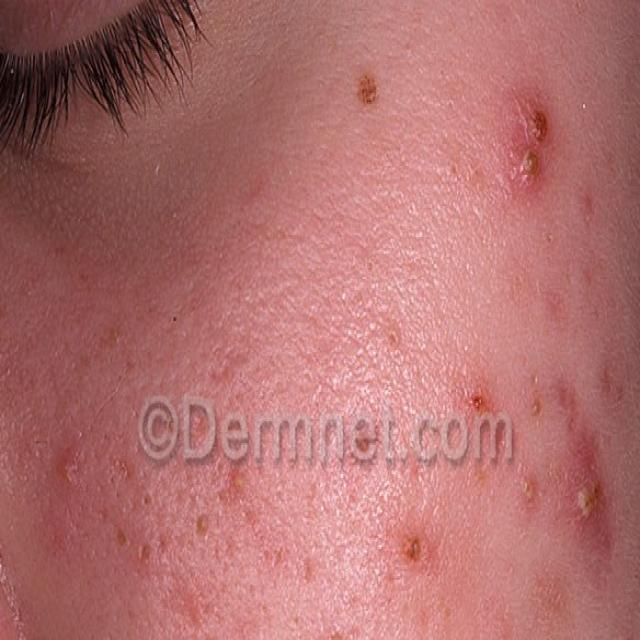Acne: (12, 451, 278, 608), (527, 344, 640, 640), (463, 66, 622, 227), (390, 484, 485, 629), (336, 373, 418, 495), (153, 325, 266, 411), (337, 55, 403, 129), (463, 357, 511, 455)
